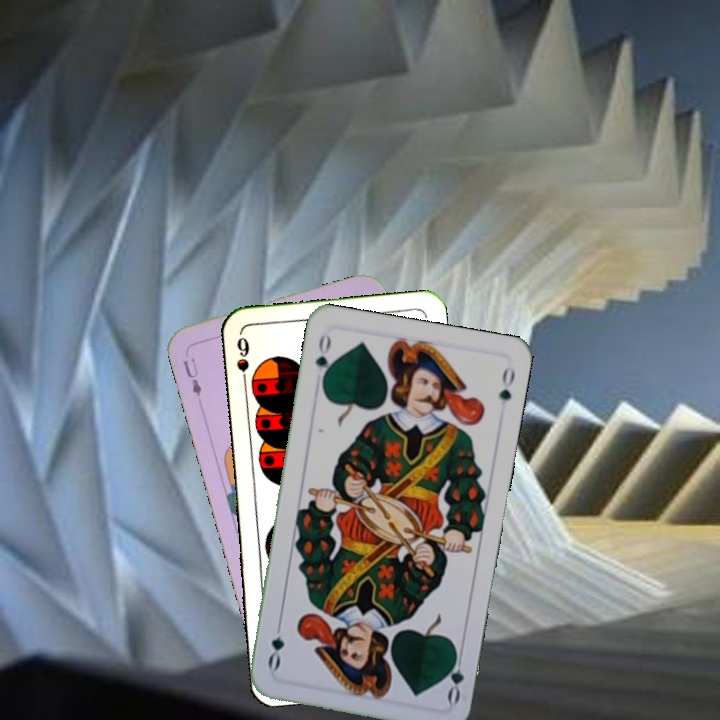EU: (179, 353, 205, 400)
GO: (441, 646, 467, 706), (311, 330, 335, 389)
S9: (232, 333, 252, 391)
